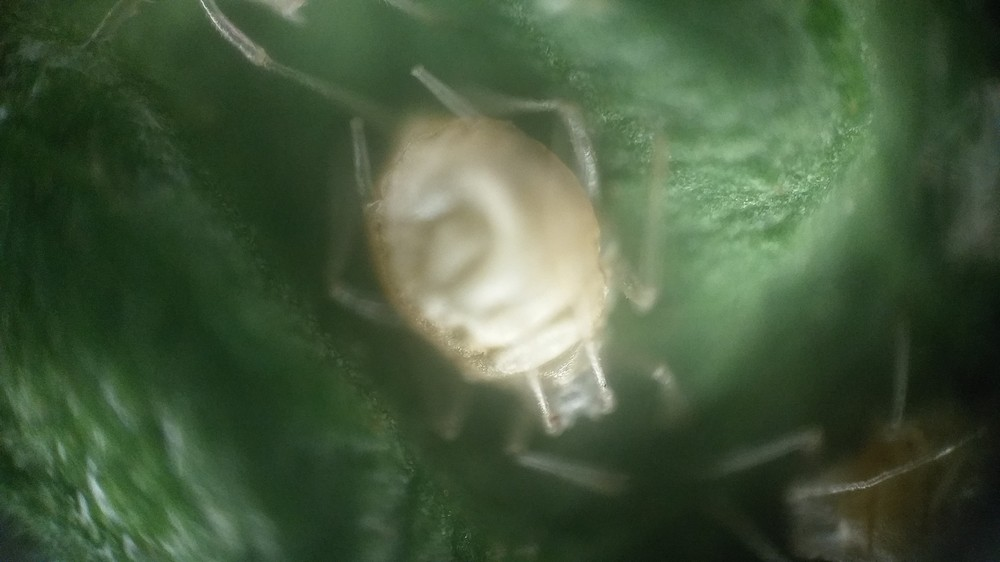Pulgon: (283, 59, 768, 518)
